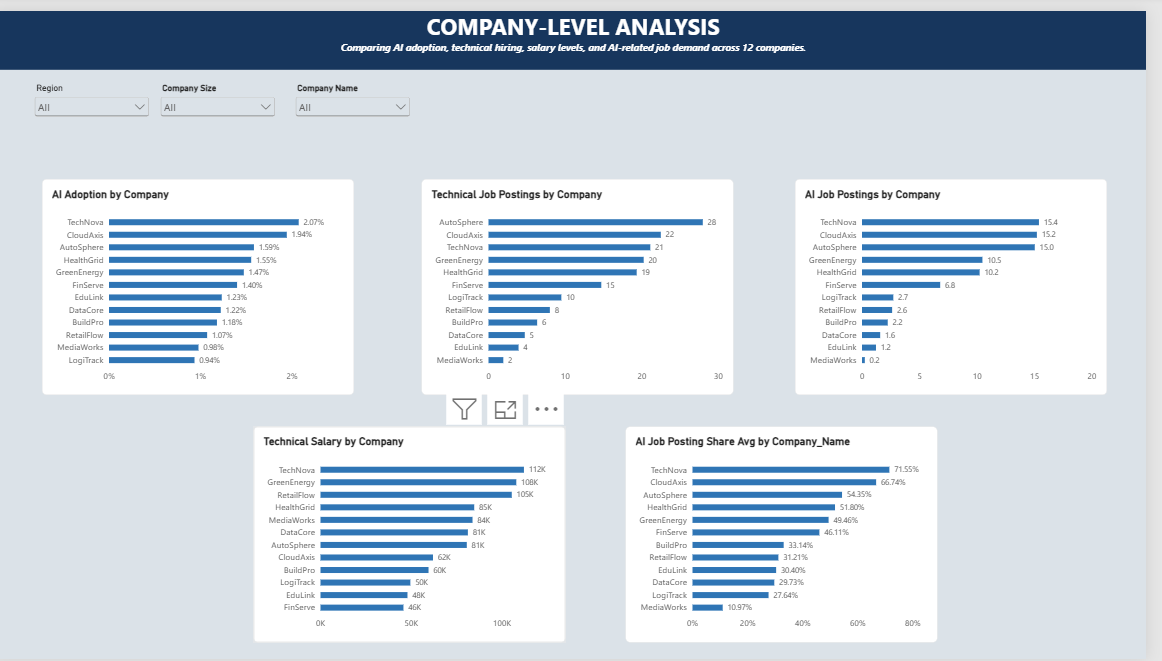

This screenshot's page, from the dashboard's own definition file:
{"tool":"powerbi","page":{"name":"Company Level Analysis","canvas":[1920,1080],"ordinal":5},"visuals":[{"type":"clusteredBarChart","fields":{"Category":["Company.Company_Name"],"Y":["company month clean.AI Adoption Avg"]},"box":[46.7,0,436.7,396.7],"z":0},{"type":"clusteredBarChart","fields":{"Category":["Company.Company_Name"],"Y":["Avg(company month clean.Technical_Job_Postings new)"]},"box":[523.3,0,436.7,396.7],"z":1000},{"type":"clusteredBarChart","fields":{"Category":["Company.Company_Name"],"Y":["Avg(company month clean. AI_Job_Postings new)"]},"box":[1020,26.7,436.7,396.7],"z":2000},{"type":"clusteredBarChart","fields":{"Category":["Company.Company_Name"],"Y":["Avg(company month clean.Technical_Salary  new)"]},"box":[1483.3,26.7,436.7,396.7],"z":3000},{"type":"clusteredBarChart","fields":{"Category":["Company.Company_Name"],"Y":["Company.AI Job Posting Share Avg"]},"box":[800,470,436.7,396.7],"z":4000}]}

Visuals, with their boxes in screenshot pixels (x1, y1, x2, y2), scaled from the page's 1920x1080 canvas onto the 1162x661 screenshot:
clusteredBarChart - Company.Company_Name x company month clean.AI Adoption Avg: BBox(28, 0, 293, 243)
clusteredBarChart - Company.Company_Name x Avg(company month clean.Technical_Job_Postings new): BBox(317, 0, 581, 243)
clusteredBarChart - Company.Company_Name x Avg(company month clean. AI_Job_Postings new): BBox(617, 16, 882, 259)
clusteredBarChart - Company.Company_Name x Avg(company month clean.Technical_Salary  new): BBox(898, 16, 1161, 259)
clusteredBarChart - Company.Company_Name x Company.AI Job Posting Share Avg: BBox(484, 288, 748, 530)
